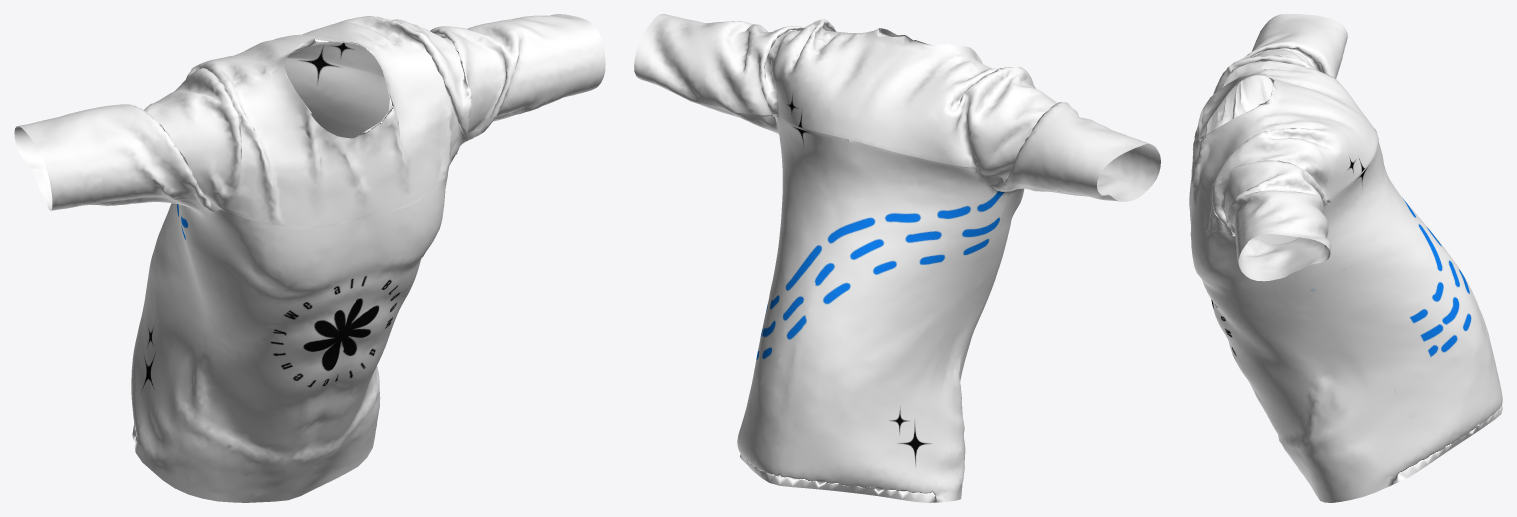
The model's file is tshirt.fbx.
3 renders of one model, left to right at view 1: azimuth 30°, elevation 25°; view 2: azimuth 150°, elevation 25°; view 3: azimuth 270°, elevation 25°, orthographic. The views are drawn at different scales.
Visible parts, largest first — view 1: tshirt; view 2: tshirt; view 3: tshirt.
Boxes of the visible parts, x1,y1,x2,y2 form: tshirt: (14, 14, 605, 502); tshirt: (634, 14, 1160, 502); tshirt: (1189, 14, 1502, 502).
Size of the model in its own units: 80.69 by 67.21 by 48.2.
Materials: 6 (6 with a texture image).
